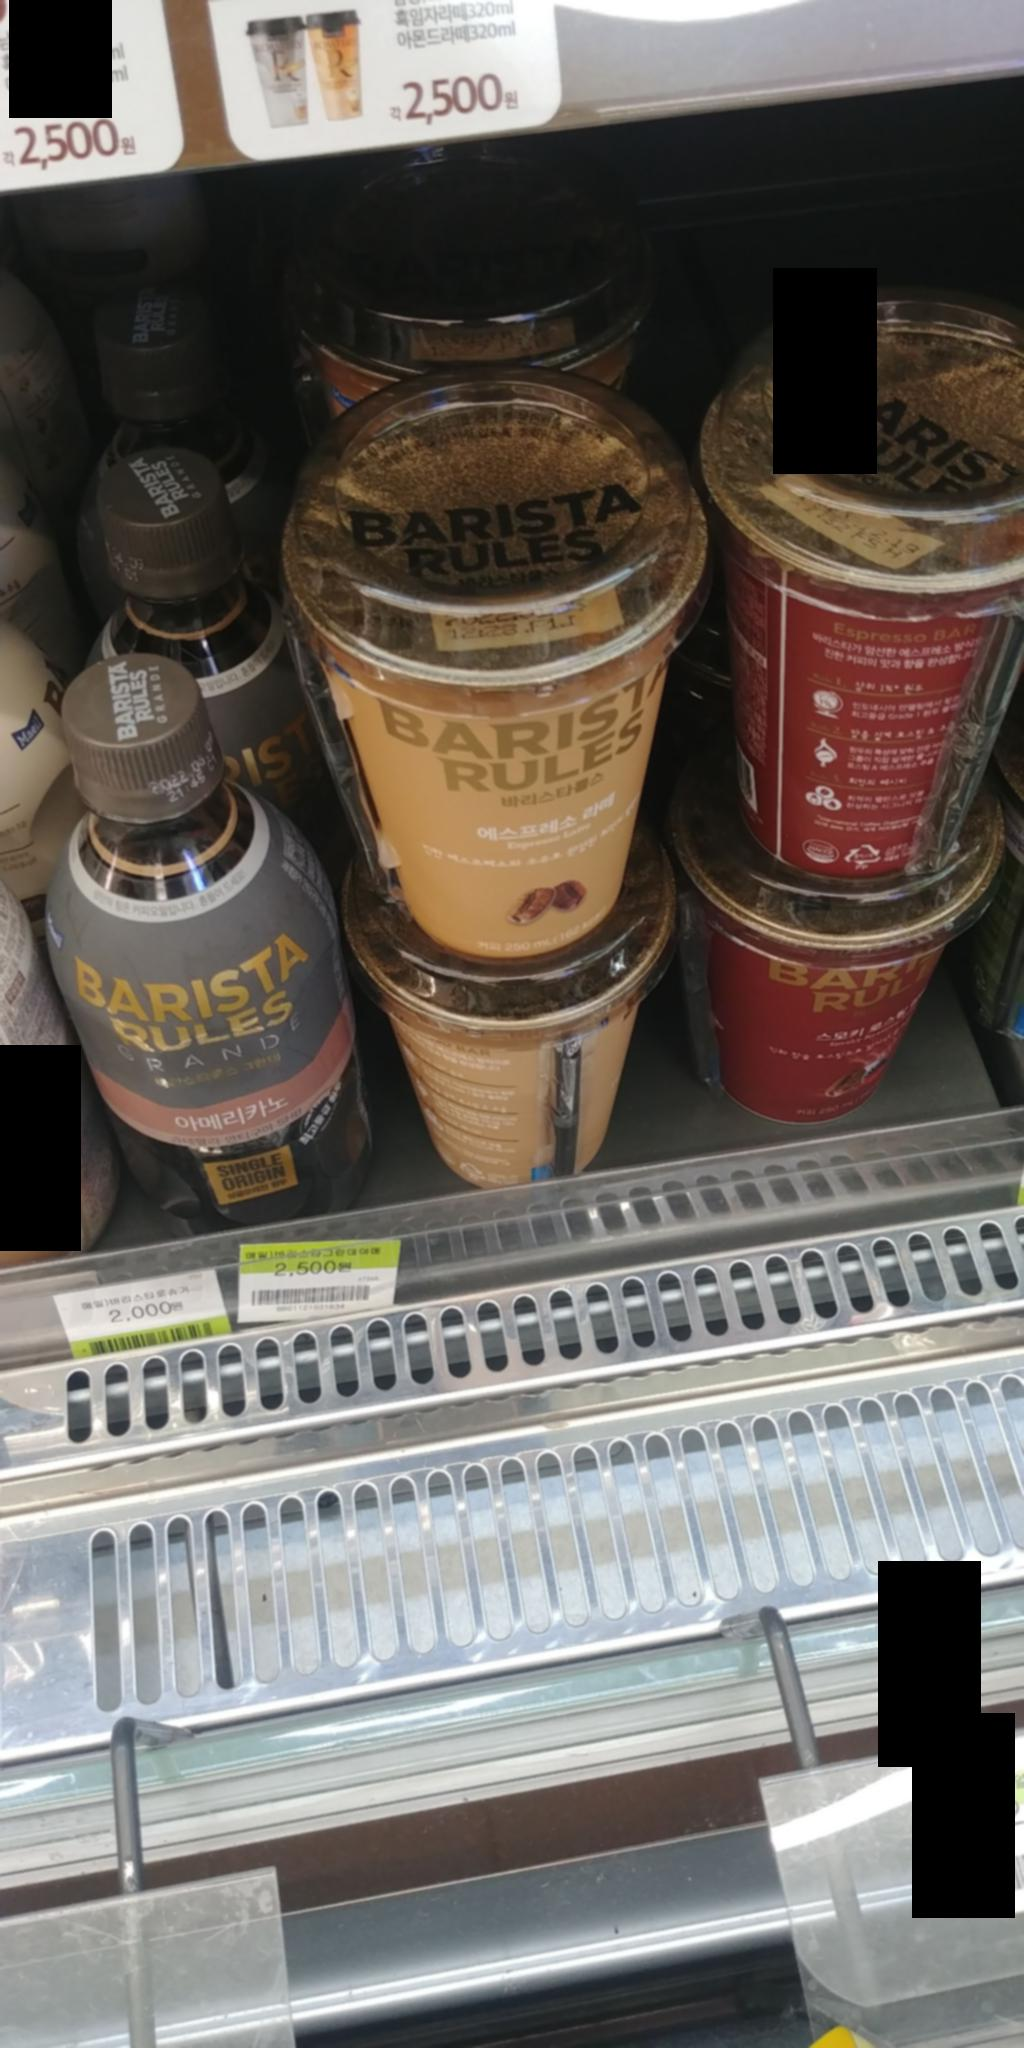baristarules_espressolatte: (287, 404, 699, 964)
